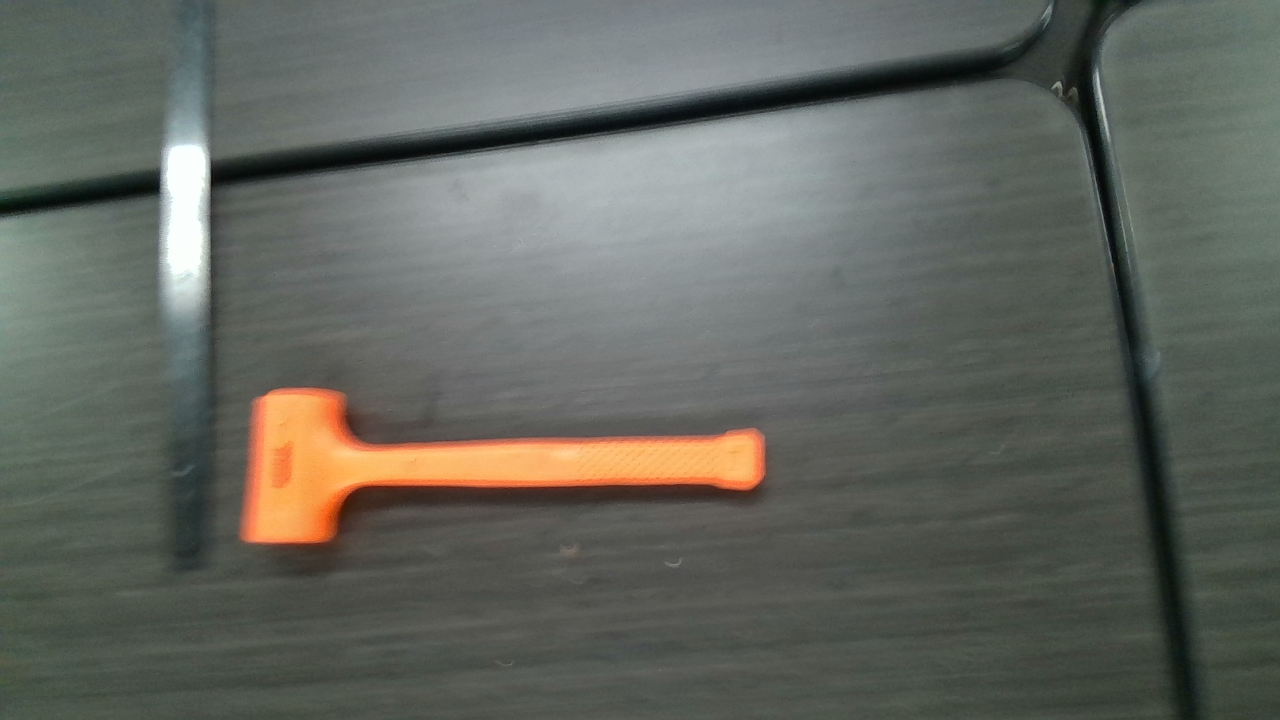Orange Hammer: (246, 390, 770, 544)
